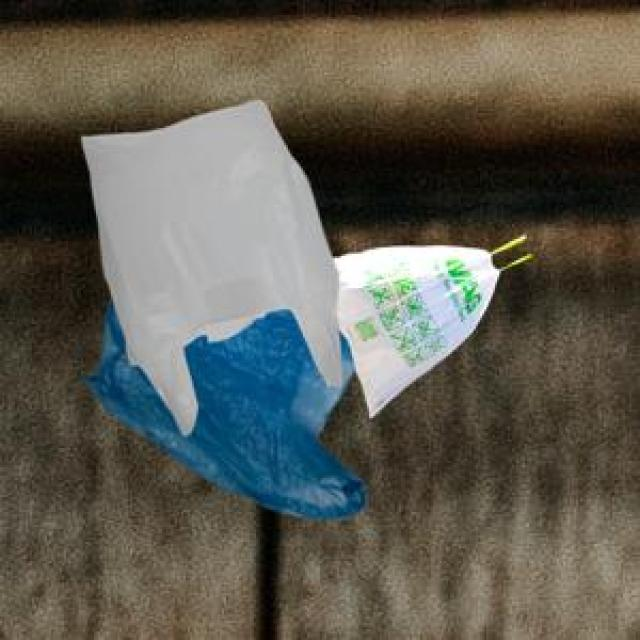Single-layer Plastic: (81, 101, 341, 435), (86, 307, 366, 519), (335, 234, 534, 416)
